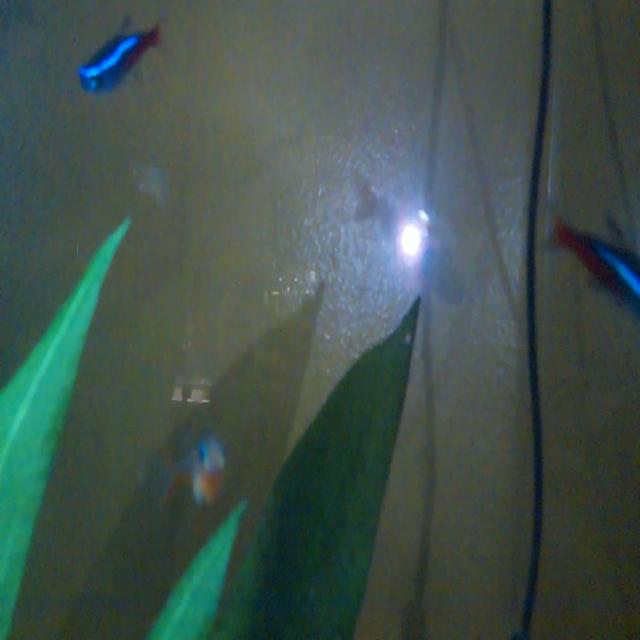fish: (72, 10, 164, 104), (156, 425, 231, 515)
